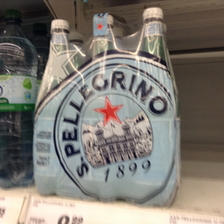water: (126, 6, 177, 205), (79, 13, 128, 201), (33, 19, 79, 197), (1, 9, 38, 185)
